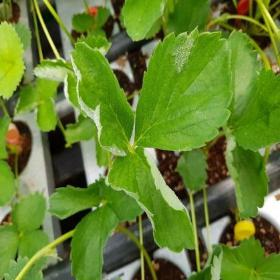Powdery Mildew Leaf: (134, 24, 234, 152), (107, 146, 197, 253), (69, 41, 135, 157), (121, 0, 176, 42), (184, 245, 224, 279), (64, 72, 87, 118), (33, 59, 75, 81)
